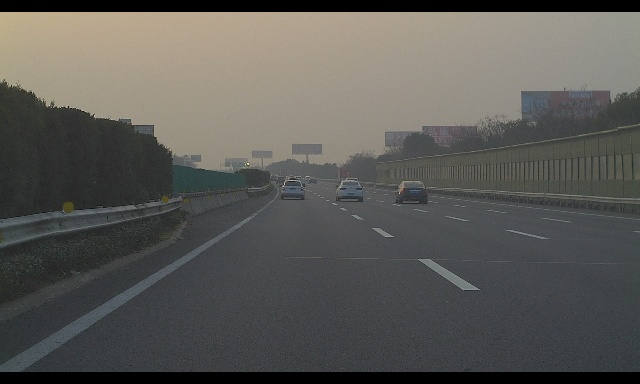car: (395, 181, 427, 204), (335, 180, 363, 202), (279, 179, 306, 200), (344, 177, 359, 189), (288, 177, 299, 190), (297, 177, 305, 186), (276, 176, 285, 184), (307, 178, 316, 184), (288, 175, 295, 182), (270, 176, 276, 182)
truck: (337, 169, 351, 185), (278, 168, 287, 179)
